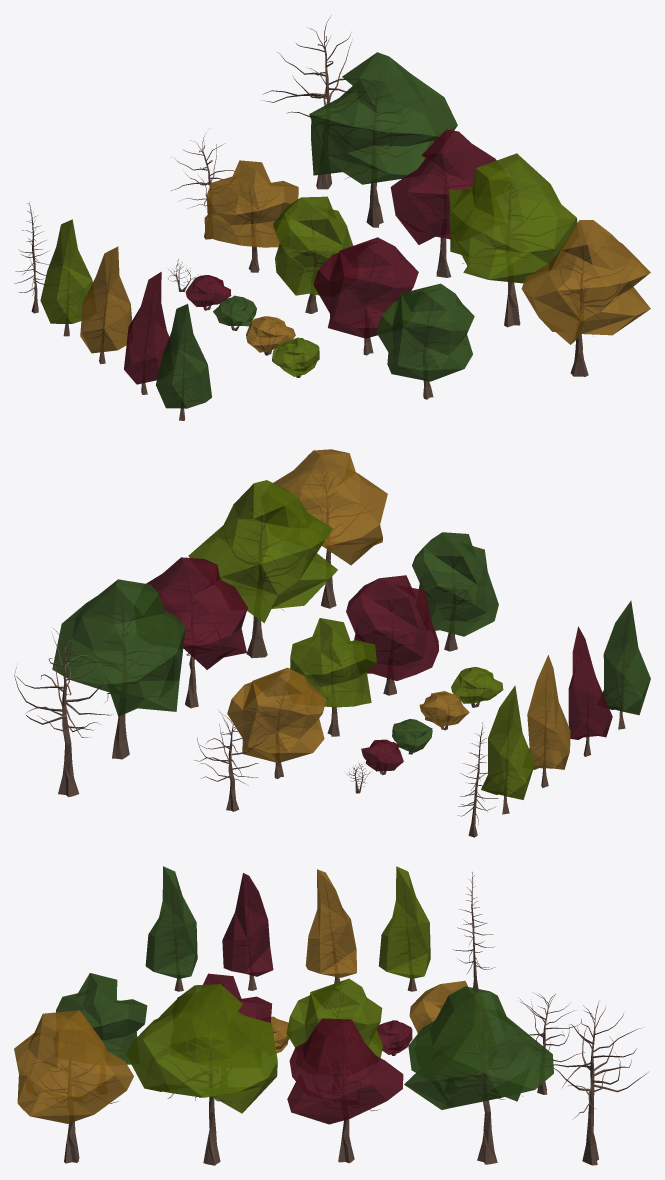
File: exstra trees.fbx
The picture shows the model from 3 angles, top to bottom: view 1: azimuth 30°, elevation 25°; view 2: azimuth 150°, elevation 25°; view 3: azimuth 270°, elevation 25°; orthographic projection.
Parts seen in each view (by area): view 1: LOW_POLY_Tree_2_005, LOW_POLY_Tree_2_008, LOW_POLY_Tree_2_006, LOW_POLY_Tree_1_007, LOW_POLY_Tree_1_008, LOW_POLY_Tree_2_007, LOW_POLY_Tree_1_005, LOW_POLY_Tree_1_006, LOW_POLY_Tree_3_008, LOW_POLY_Tree_3_006, LOW_POLY_Tree_3_005, LOW_POLY_Tree_3_007 (+6 smaller); view 2: LOW_POLY_Tree_2_005, LOW_POLY_Tree_2_008, LOW_POLY_Tree_2_006, LOW_POLY_Tree_2_007, LOW_POLY_Tree_1_008, LOW_POLY_Tree_1_005, LOW_POLY_Tree_1_007, LOW_POLY_Tree_1_006, LOW_POLY_Tree_3_005, LOW_POLY_Tree_3_008, LOW_POLY_Tree_3_006, LOW_POLY_Tree_3_007 (+7 smaller); view 3: LOW_POLY_Tree_2_008, LOW_POLY_Tree_2_005, LOW_POLY_Tree_2_006, LOW_POLY_Tree_2_007, LOW_POLY_Tree_3_008, LOW_POLY_Tree_3_005, LOW_POLY_Tree_1_006, LOW_POLY_Tree_1_007, LOW_POLY_Tree_3_006, LOW_POLY_Tree_3_007, LOW_POLY_Tree_2_009, LOW_POLY_Tree_1_005 (+5 smaller).
Part boxes in pixels (x1=…): LOW_POLY_Tree_2_005: x1=309, y1=52, x2=457, y2=227; LOW_POLY_Tree_2_008: x1=449, y1=153, x2=577, y2=327; LOW_POLY_Tree_2_006: x1=521, y1=220, x2=650, y2=376; LOW_POLY_Tree_1_007: x1=376, y1=283, x2=474, y2=399; LOW_POLY_Tree_1_008: x1=313, y1=237, x2=418, y2=355; LOW_POLY_Tree_2_007: x1=390, y1=129, x2=496, y2=277; LOW_POLY_Tree_1_005: x1=204, y1=160, x2=298, y2=272; LOW_POLY_Tree_1_006: x1=273, y1=196, x2=353, y2=313; LOW_POLY_Tree_3_008: x1=156, y1=304, x2=211, y2=420; LOW_POLY_Tree_3_006: x1=80, y1=246, x2=132, y2=364; LOW_POLY_Tree_3_005: x1=40, y1=219, x2=92, y2=336; LOW_POLY_Tree_3_007: x1=124, y1=272, x2=169, y2=394; LOW_POLY_Tree_2_005: x1=52, y1=579, x2=185, y2=759; LOW_POLY_Tree_2_008: x1=188, y1=480, x2=337, y2=658; LOW_POLY_Tree_2_006: x1=273, y1=449, x2=387, y2=608; LOW_POLY_Tree_2_007: x1=146, y1=557, x2=247, y2=708; LOW_POLY_Tree_1_008: x1=346, y1=575, x2=438, y2=695; LOW_POLY_Tree_1_005: x1=227, y1=667, x2=326, y2=778; LOW_POLY_Tree_1_007: x1=412, y1=532, x2=498, y2=651; LOW_POLY_Tree_1_006: x1=290, y1=618, x2=376, y2=736; LOW_POLY_Tree_3_005: x1=481, y1=685, x2=534, y2=814; LOW_POLY_Tree_3_008: x1=602, y1=600, x2=650, y2=729; LOW_POLY_Tree_3_006: x1=527, y1=655, x2=570, y2=787; LOW_POLY_Tree_3_007: x1=568, y1=626, x2=612, y2=756; LOW_POLY_Tree_2_008: x1=126, y1=984, x2=277, y2=1165; LOW_POLY_Tree_2_005: x1=404, y1=986, x2=553, y2=1164; LOW_POLY_Tree_2_006: x1=14, y1=1010, x2=133, y2=1163; LOW_POLY_Tree_2_007: x1=287, y1=1018, x2=403, y2=1163; LOW_POLY_Tree_3_008: x1=145, y1=866, x2=197, y2=991; LOW_POLY_Tree_3_005: x1=378, y1=866, x2=430, y2=991; LOW_POLY_Tree_1_006: x1=286, y1=978, x2=383, y2=1057; LOW_POLY_Tree_1_007: x1=56, y1=973, x2=147, y2=1064; LOW_POLY_Tree_3_006: x1=305, y1=869, x2=356, y2=983; LOW_POLY_Tree_3_007: x1=222, y1=873, x2=273, y2=990; LOW_POLY_Tree_2_009: x1=538, y1=1000, x2=648, y2=1165; LOW_POLY_Tree_1_005: x1=409, y1=980, x2=467, y2=1033.
Bounding box in the file's own units: 2303 × 864 × 2907.
